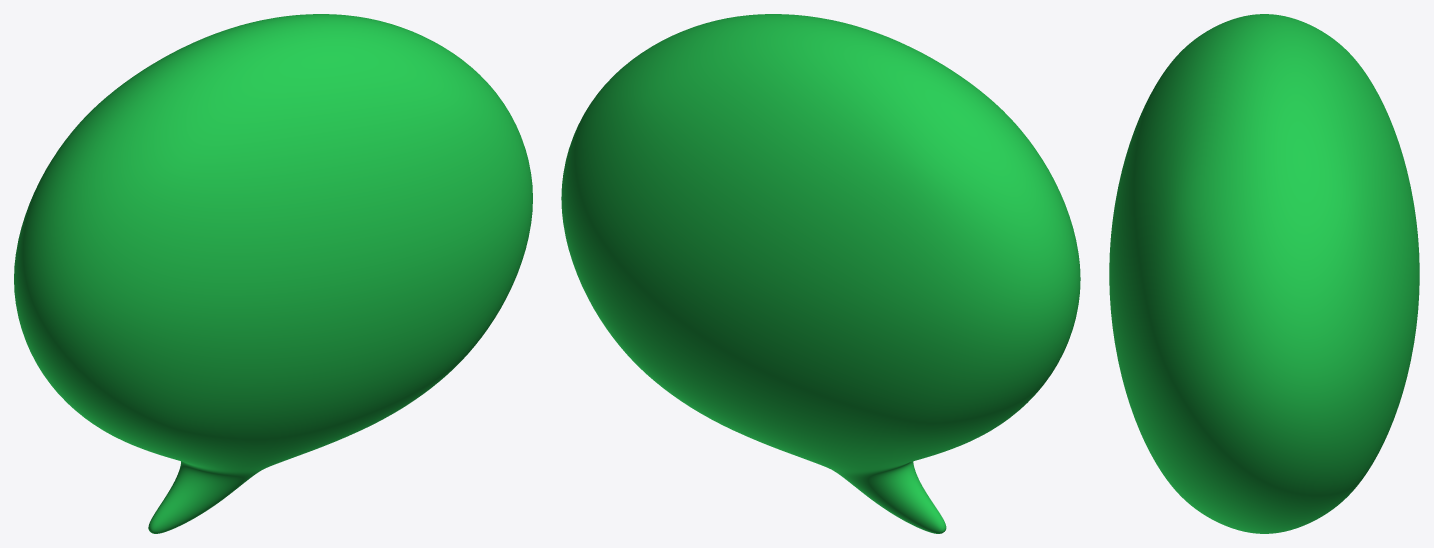
Rendered from Chat finished.fbx.
The picture shows the model from 3 angles, left to right: view 1: azimuth 30°, elevation 25°; view 2: azimuth 150°, elevation 25°; view 3: azimuth 270°, elevation 25°; orthographic projection. The views are drawn at different scales.
Parts seen in each view (by area): view 1: Chat-Only; view 2: Chat-Only; view 3: Chat-Only.
Boxes of the visible parts, <box> form: Chat-Only: <box>14,14,532,533</box>; Chat-Only: <box>561,14,1080,533</box>; Chat-Only: <box>1109,14,1419,533</box>.
Size of the model in its own units: 189 by 174 by 95.42.
